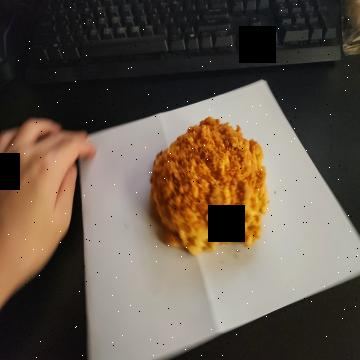soboru_bread: (150, 117, 268, 255)
